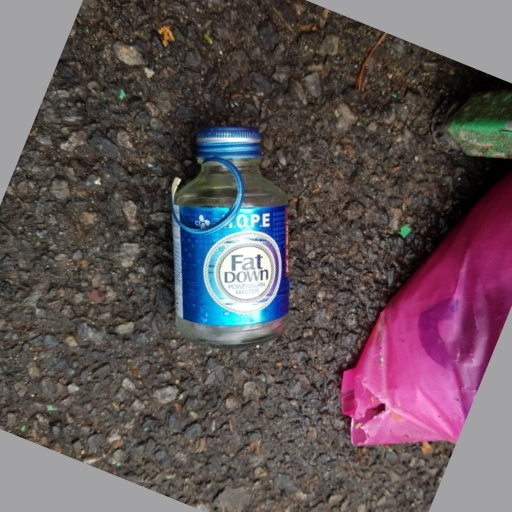Glass_4: (170, 125, 293, 342)
